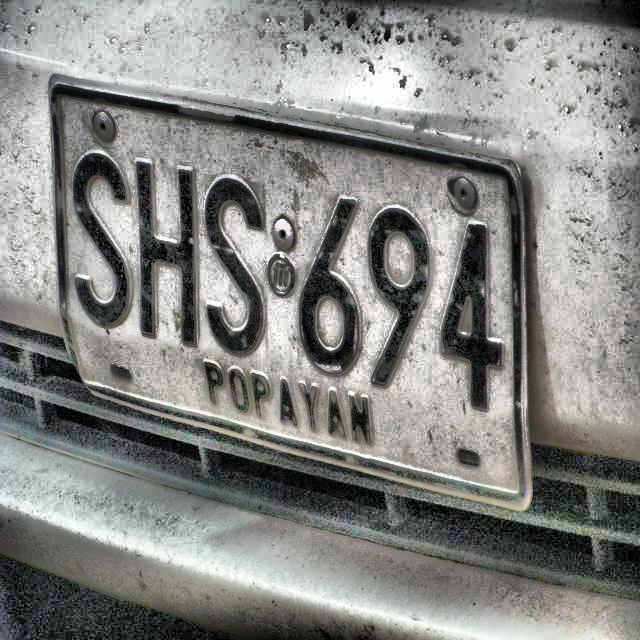plate: (55, 84, 520, 503)
